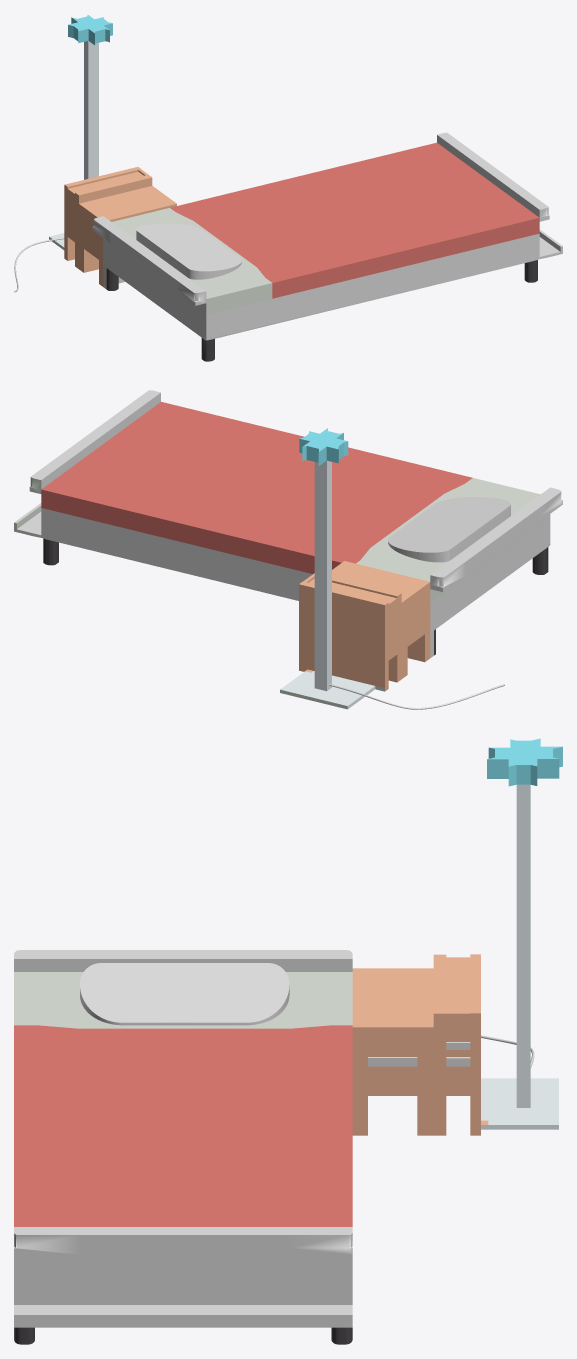
File: Bed.fbx
The picture shows the model from 3 angles, top to bottom: view 1: azimuth 30°, elevation 25°; view 2: azimuth 150°, elevation 25°; view 3: azimuth 270°, elevation 25°; orthographic projection. The views are drawn at different scales.
Parts seen in each view (by area): view 1: Bed; view 2: Bed, BezierCurve; view 3: Bed.
Part boxes in pixels (x1,y1,x2,y2): Bed: [49, 14, 562, 361]; Bed: [14, 390, 562, 709]; BezierCurve: [329, 684, 504, 709]; Bed: [14, 738, 562, 1344].
Bounding box in the file's own units: 1270 × 605 × 845.
